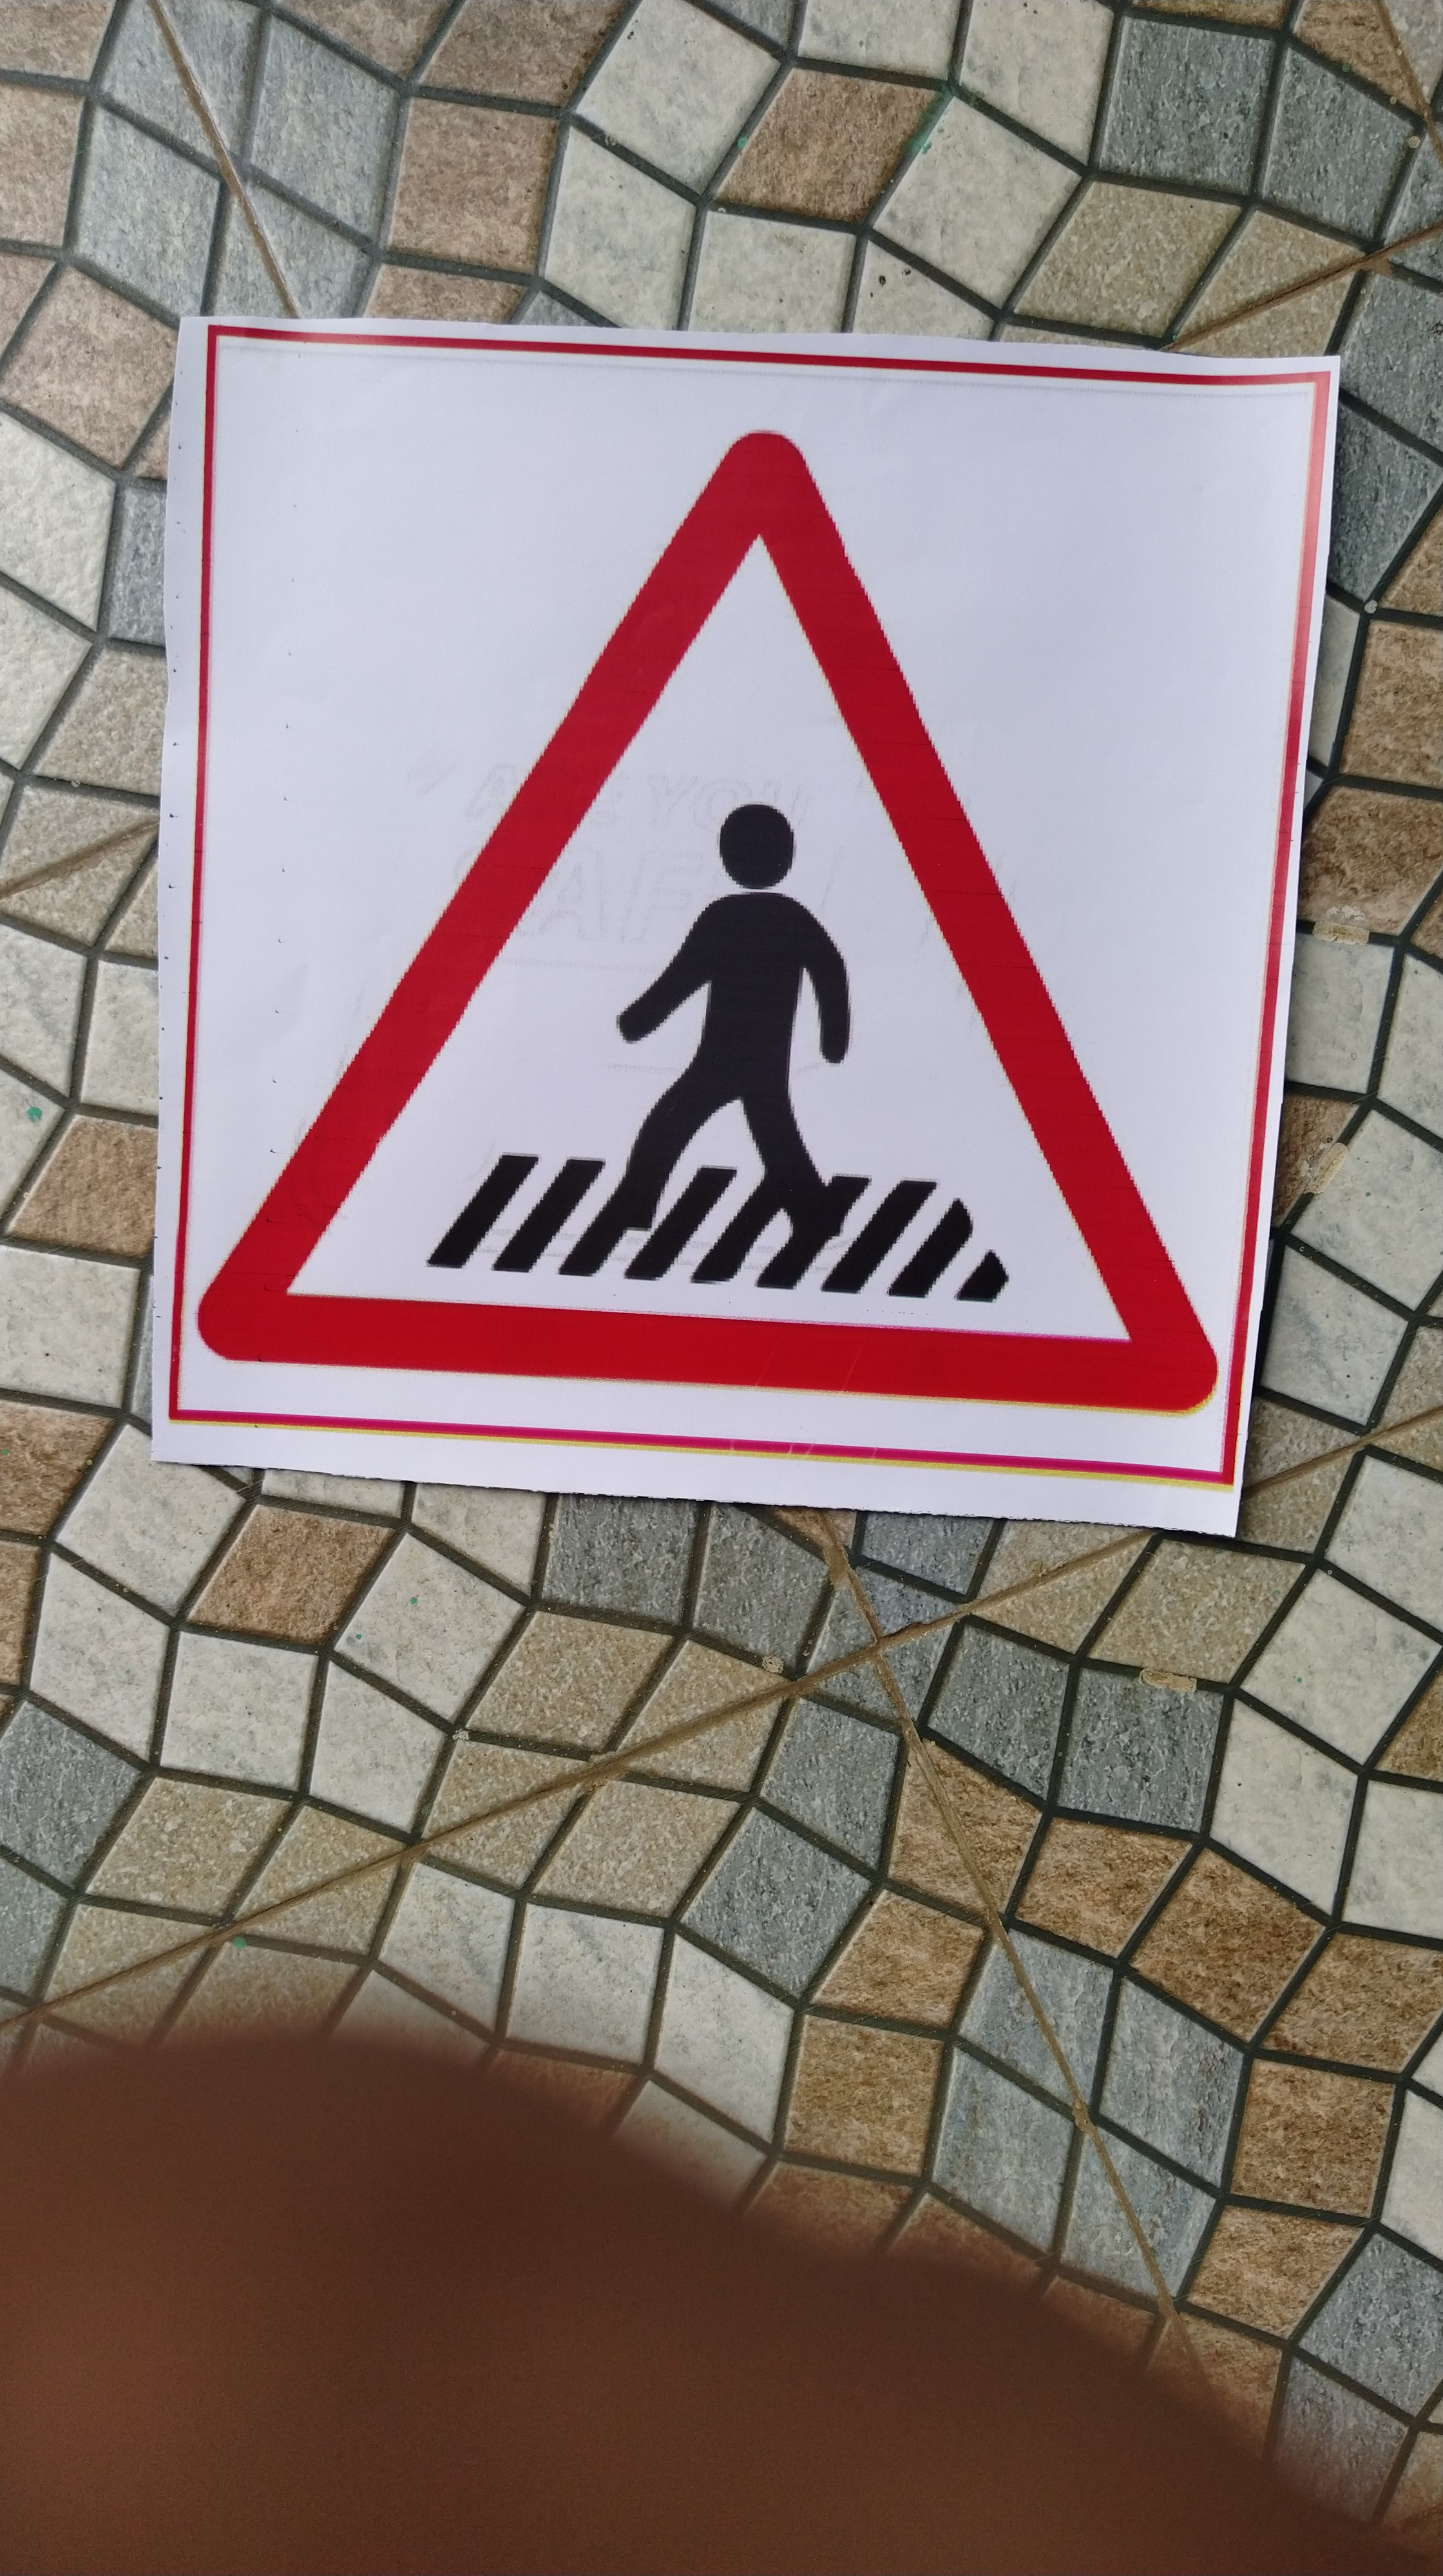pedestrain crossing: (227, 334, 1232, 1493)
